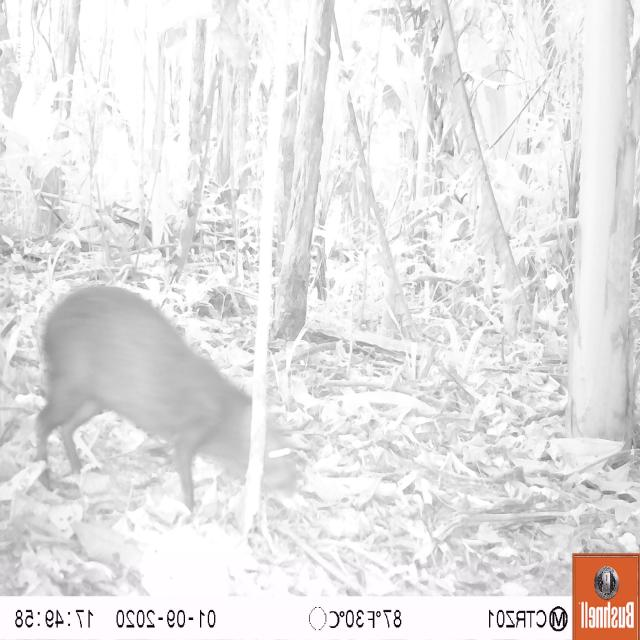Black Agouti: (29, 278, 320, 543)
